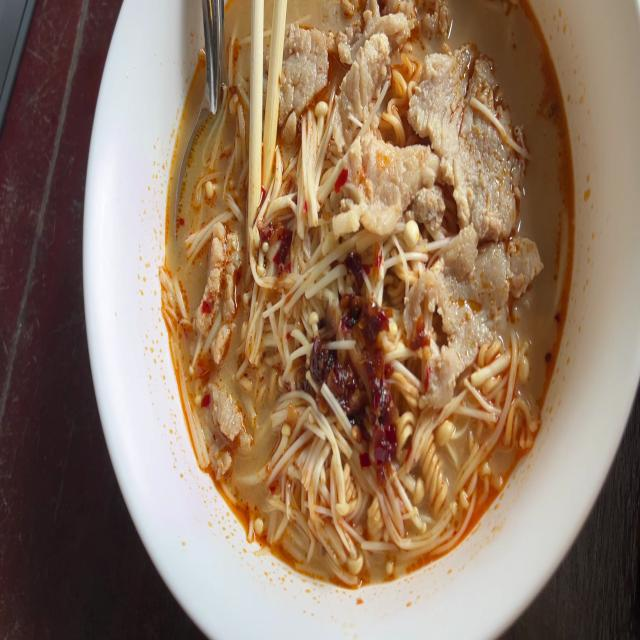noodle: (156, 0, 595, 592)
